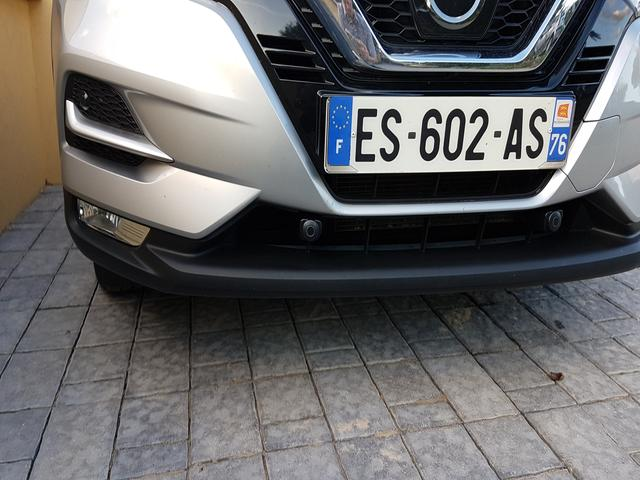Quashquai: (307, 71, 591, 214)
